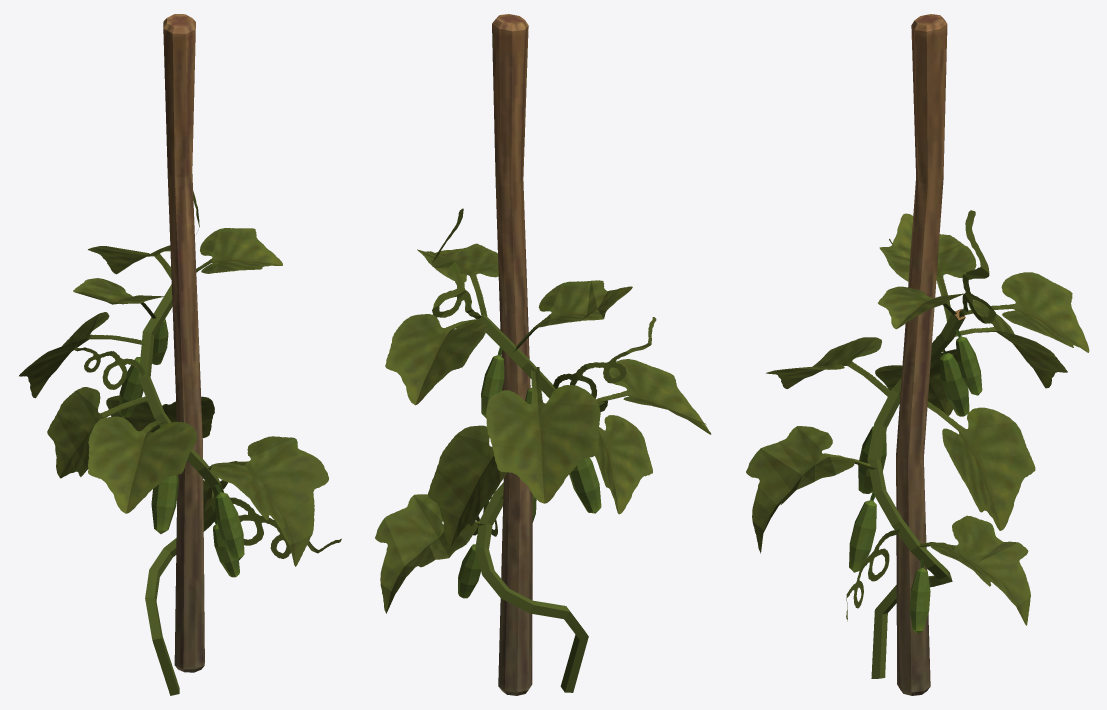
Rendered from Cucumber_02.obj.
The picture shows the model from 3 angles, left to right: view 1: azimuth 30°, elevation 25°; view 2: azimuth 150°, elevation 25°; view 3: azimuth 270°, elevation 25°; orthographic projection. The views are drawn at different scales.
Size of the model in its own units: 0.4953 by 1.15 by 0.536.
1 material, 1 textured.
